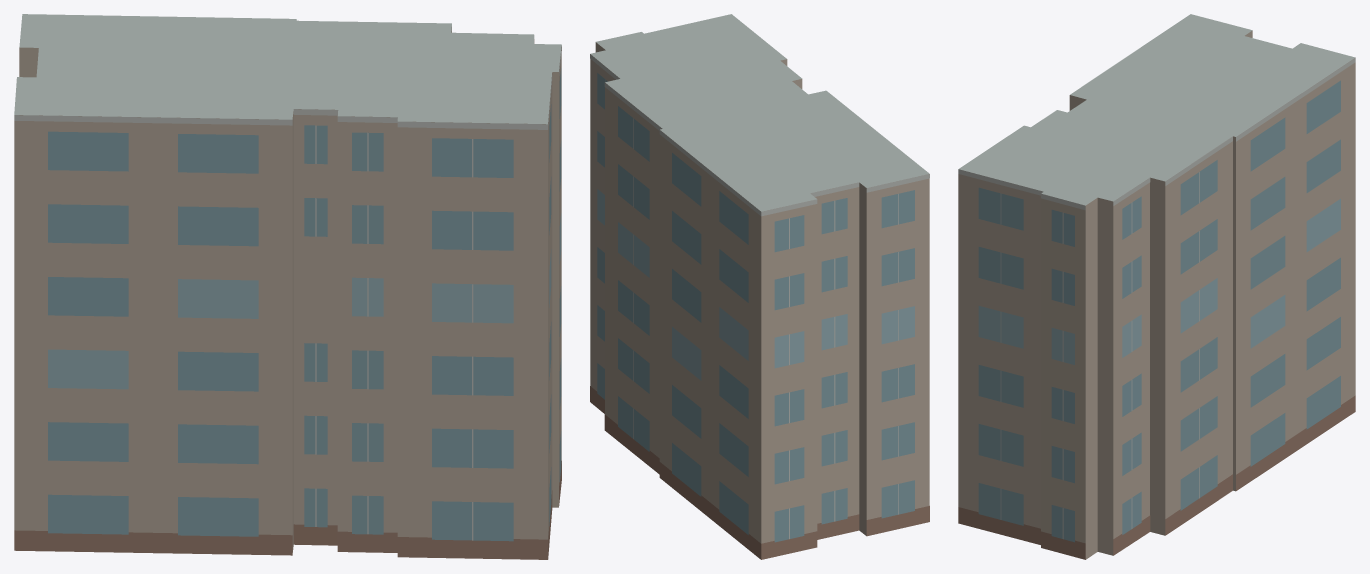
Rendered from survey-upis-32740626.glb.
3 views of the same model, side by side, from view 1: azimuth 30°, elevation 25°; view 2: azimuth 150°, elevation 25°; view 3: azimuth 270°, elevation 25° (orthographic). The views are drawn at different scales.
Visible parts, largest first — view 1: survey-upis-32740626.tmp; view 2: survey-upis-32740626.tmp; view 3: survey-upis-32740626.tmp.
Boxes of the visible parts, x1,y1,x2,y2 form: survey-upis-32740626.tmp: (14,14,561,559); survey-upis-32740626.tmp: (590,14,929,559); survey-upis-32740626.tmp: (958,14,1355,559).
Bounding box in the file's own units: 21.12 × 18.2 × 18.5.
